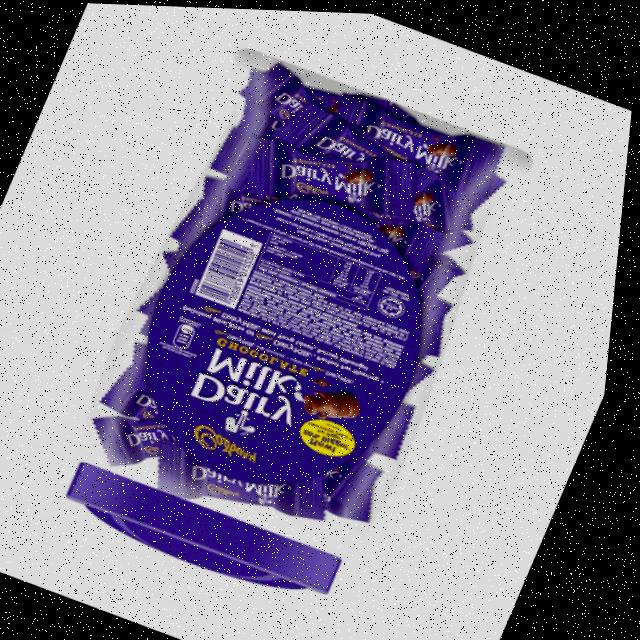cadbury: (230, 105, 436, 243), (149, 412, 357, 546), (332, 84, 523, 205)
